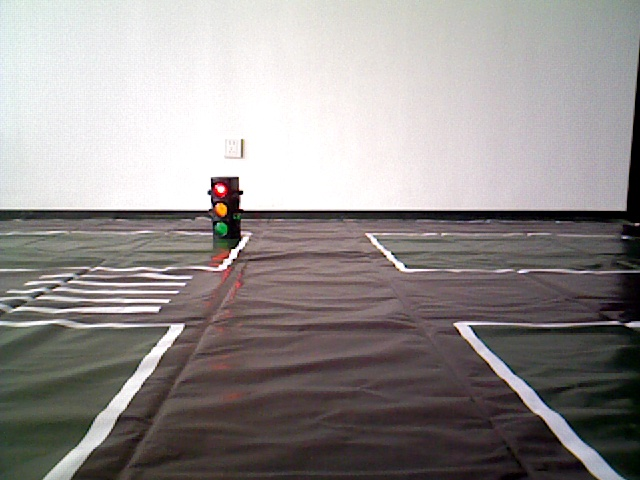red: (212, 179, 235, 239)
